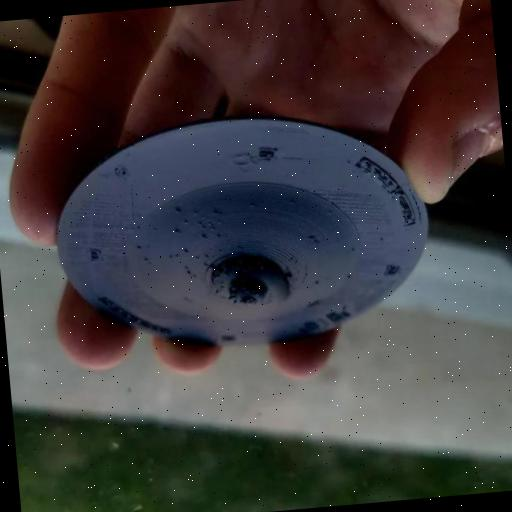blobs: (172, 206, 186, 215), (284, 270, 294, 282), (182, 268, 194, 278), (172, 227, 184, 236), (182, 247, 192, 257), (248, 200, 258, 210), (215, 265, 225, 275), (288, 198, 300, 206), (210, 208, 220, 217), (198, 233, 210, 240), (212, 232, 224, 239), (182, 219, 192, 226), (174, 252, 183, 259), (136, 244, 144, 251), (201, 262, 210, 268), (310, 234, 316, 242), (143, 256, 151, 262)
